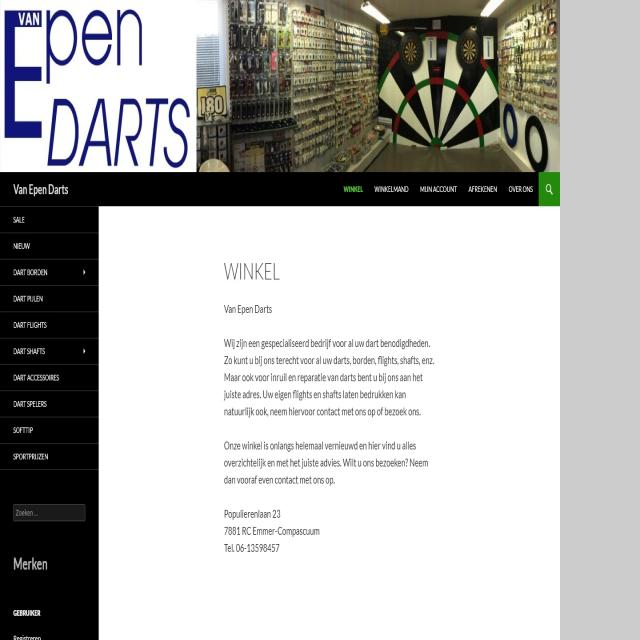button: (0, 363, 98, 392), (1, 442, 99, 470), (2, 285, 98, 312), (2, 258, 99, 284), (1, 417, 99, 442), (1, 313, 98, 338), (2, 206, 98, 231), (0, 339, 98, 363), (2, 234, 98, 257), (0, 393, 99, 415), (412, 176, 461, 204), (368, 175, 412, 206), (462, 175, 502, 204), (504, 175, 538, 206), (339, 175, 368, 206), (538, 174, 560, 204)
field: (13, 503, 84, 523)
heading: (0, 1, 196, 174), (11, 172, 71, 202), (224, 256, 280, 286), (12, 554, 50, 577), (223, 302, 274, 315)
image: (197, 3, 559, 173)
label: (14, 506, 40, 519)
text: (222, 336, 437, 420), (223, 437, 434, 487), (223, 506, 322, 558), (12, 608, 41, 618)
